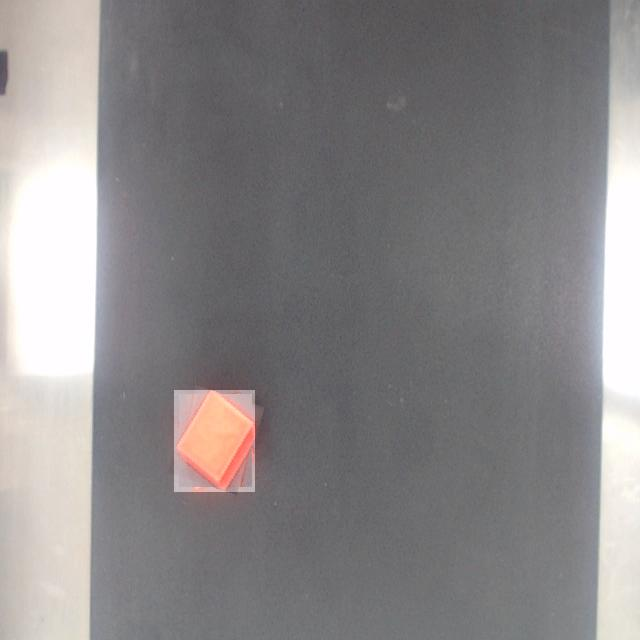Rojo: (175, 391, 255, 492)
